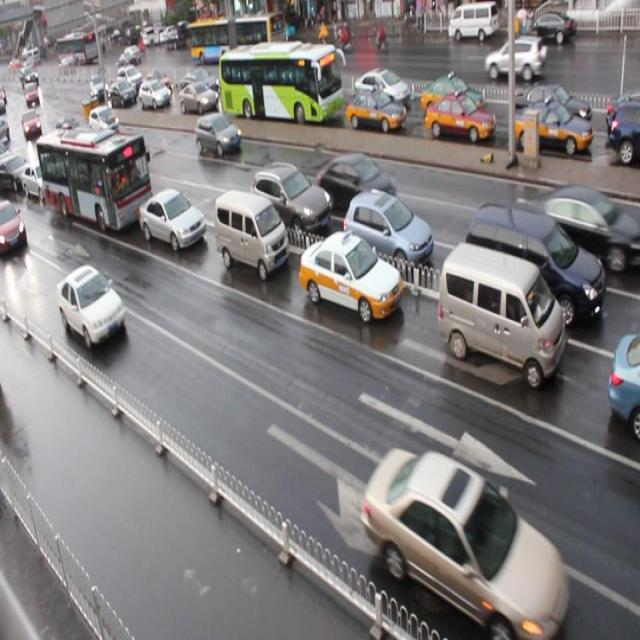car: (359, 445, 571, 629), (522, 182, 640, 273), (299, 228, 402, 322), (343, 194, 433, 278), (57, 264, 126, 350), (252, 163, 332, 234), (317, 153, 397, 224), (513, 100, 593, 158), (137, 186, 205, 251), (425, 91, 496, 142), (608, 331, 640, 436), (508, 84, 582, 128), (422, 76, 487, 120), (345, 86, 405, 133), (352, 68, 408, 110), (608, 98, 640, 160), (197, 115, 241, 158), (600, 92, 640, 136), (21, 158, 60, 203), (1, 196, 28, 258), (179, 83, 219, 115), (242, 69, 278, 103), (1, 153, 32, 192), (70, 133, 104, 168), (88, 105, 119, 140), (185, 69, 223, 97), (139, 79, 171, 112), (118, 64, 145, 94), (110, 81, 136, 109), (143, 68, 169, 94), (57, 116, 82, 142)
truck: (437, 240, 565, 388), (466, 201, 606, 330), (212, 187, 288, 280)
van: (36, 126, 154, 234), (216, 42, 340, 124)
